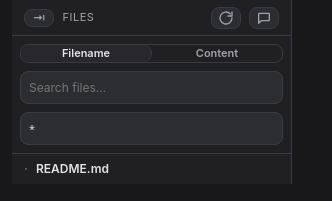
FileTree.vue — 文件树节点右键复制 › 右键文件节点显示 copy name 与 copy relative path 菜单项
This screenshot has width=332, height=201.
Right-click the button with class "file-row" at (72, 168), box [12, 158, 291, 180]
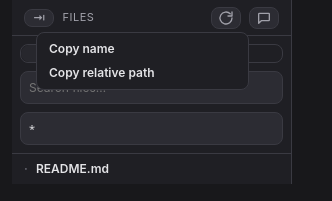
expect the menu with class "tree-context-menu" is shown: met, box [36, 32, 249, 90]
expect the menu item with test id "tree-context-copy-name" reads "Copy name": met, box [41, 37, 244, 61]
expect the menu item with test id "tree-context-copy-relative-path" reads "Copy relative path": met, box [41, 61, 244, 85]
